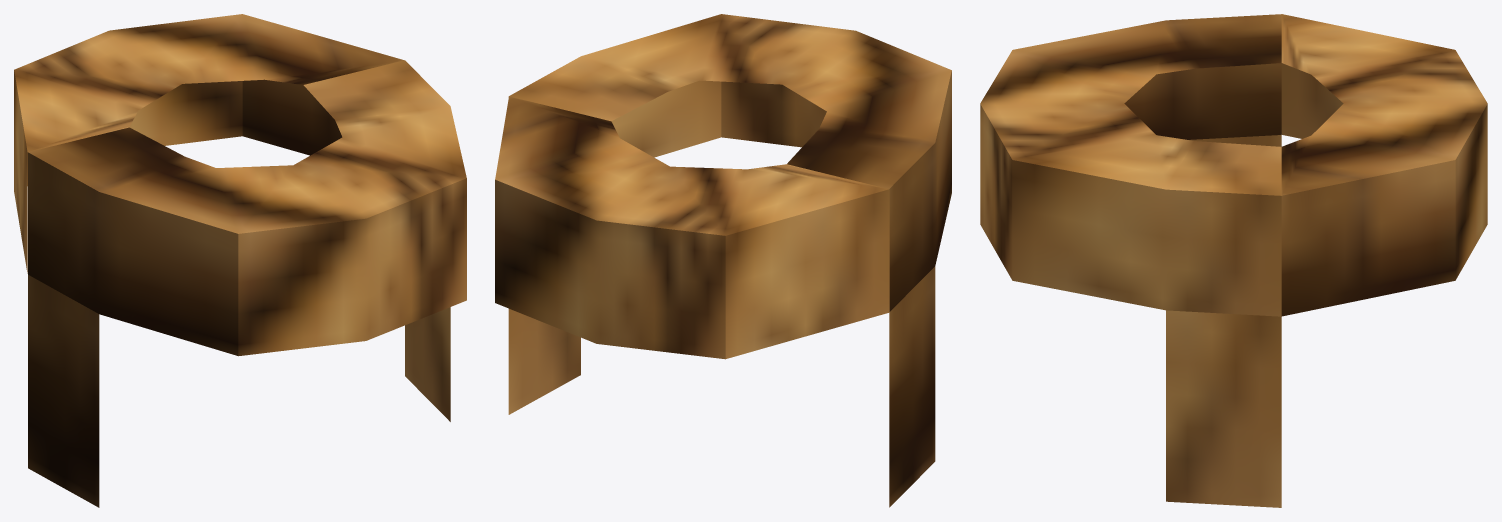
File: helmet_nok_01.dae
3 renders of one model, left to right at view 1: azimuth 30°, elevation 25°; view 2: azimuth 150°, elevation 25°; view 3: azimuth 270°, elevation 25°, orthographic. The views are drawn at different scales.
Parts seen in each view (by area): view 1: a_helmet_nok_01; view 2: a_helmet_nok_01; view 3: a_helmet_nok_01.
Boxes of the visible parts, <box> form: a_helmet_nok_01: <box>14,14,466,507</box>; a_helmet_nok_01: <box>495,14,951,507</box>; a_helmet_nok_01: <box>980,14,1487,507</box>.
Bounding box in the file's own units: 0.4891 × 0.5767 × 0.3913.
